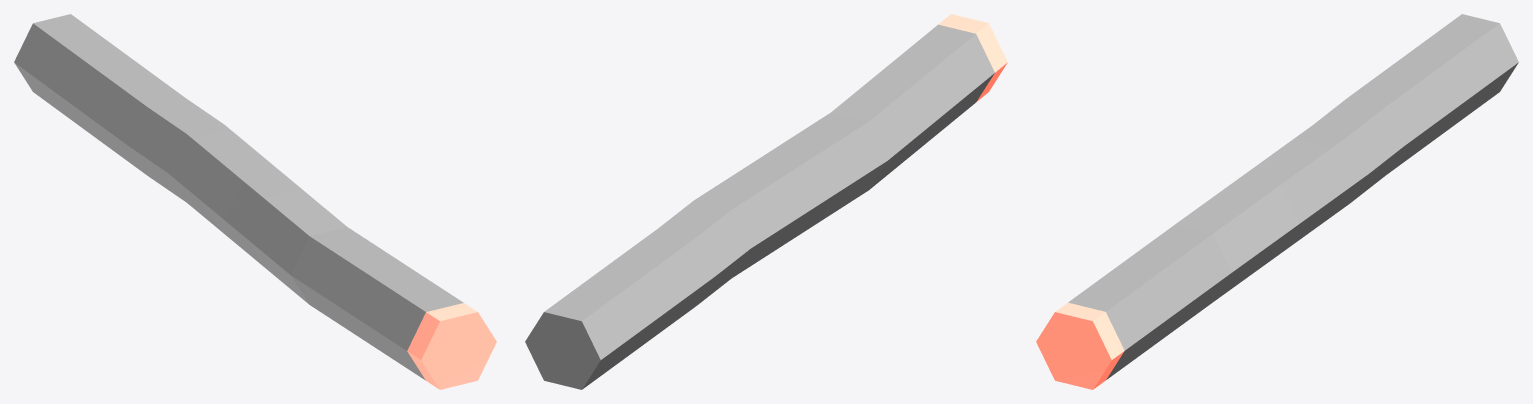
The model's file is SM_Prop_Cigarette_02.fbx.
3 renders of one model, left to right at view 1: azimuth 30°, elevation 25°; view 2: azimuth 150°, elevation 25°; view 3: azimuth 330°, elevation 25°, orthographic.
Visible parts, largest first — view 1: SM_Prop_Cigarette_02; view 2: SM_Prop_Cigarette_02; view 3: SM_Prop_Cigarette_02.
Boxes of the visible parts, x1,y1,x2,y2 form: SM_Prop_Cigarette_02: [14, 14, 496, 389]; SM_Prop_Cigarette_02: [525, 14, 1007, 389]; SM_Prop_Cigarette_02: [1036, 14, 1518, 389].
Bounding box in the file's own units: 1.73 × 1.48 × 14.71.
